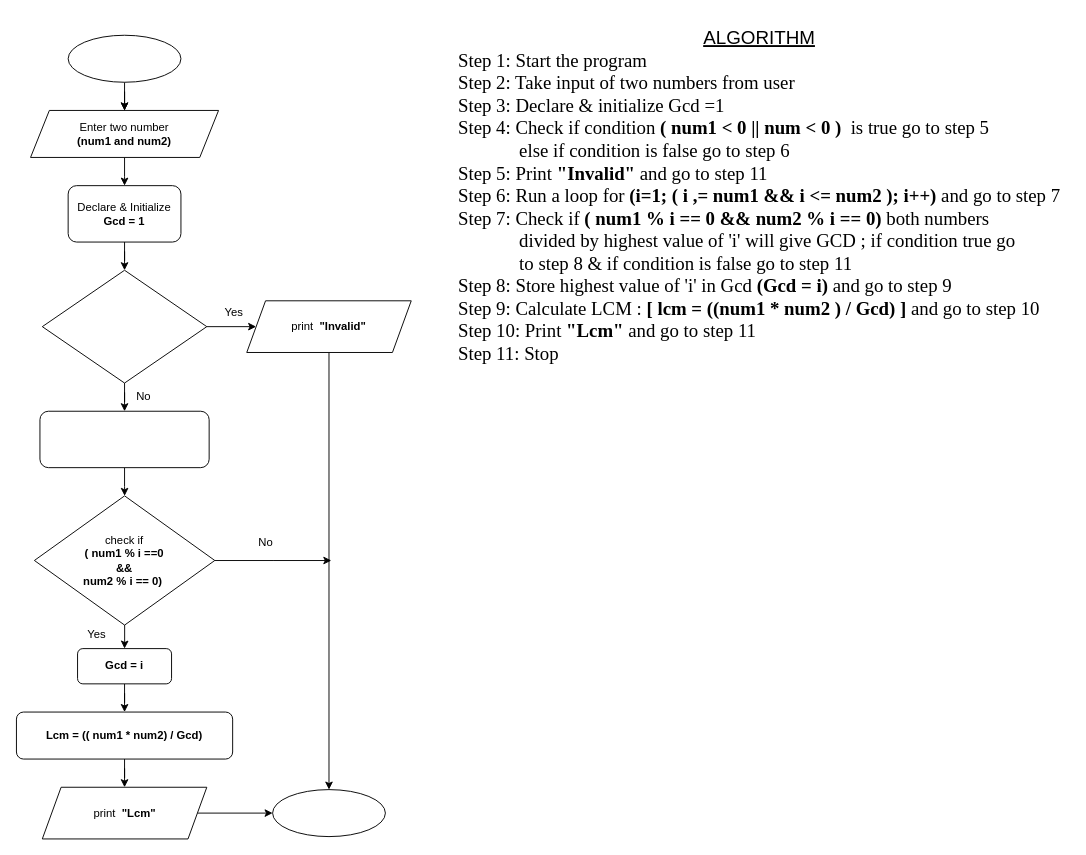
Some shapes in this 1086 by 855 pixel diagram are drawn without their labels. Here are the shapes that lost their labels. From the top down, the centre of each, then its label:
pixel 124 58: Start
pixel 124 326: Check if ( num1 < 0 || num2 < 0 )
pixel 124 439: for i=1; ( i<= num1 && i <= num2 ); i++;
pixel 328 813: Stop
